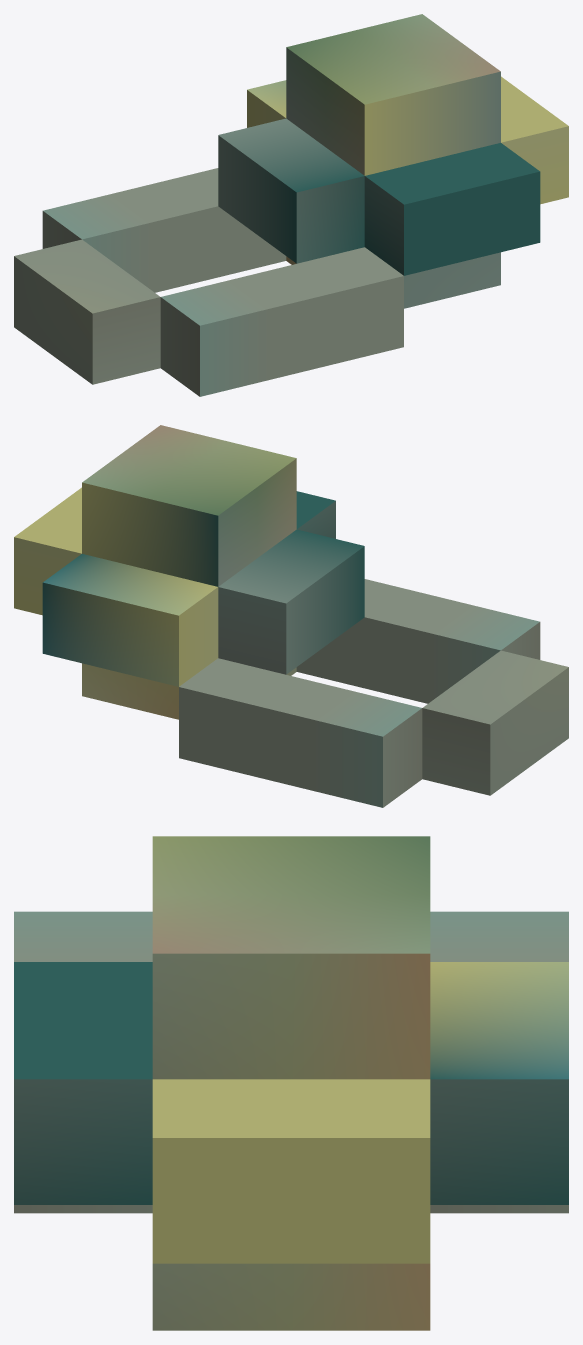
Rendered from BabyRattle_A_00.fbx.
3 renders of one model, top to bottom at view 1: azimuth 30°, elevation 25°; view 2: azimuth 150°, elevation 25°; view 3: azimuth 270°, elevation 25°, orthographic. The views are drawn at different scales.
Parts seen in each view (by area): view 1: BabyRattle_A_00; view 2: BabyRattle_A_00; view 3: BabyRattle_A_00.
Boxes of the visible parts, left/top/right/bottom form: BabyRattle_A_00: left=14, top=14, right=568, bottom=396; BabyRattle_A_00: left=14, top=425, right=568, bottom=807; BabyRattle_A_00: left=14, top=836, right=568, bottom=1330.
Bounding box in the file's own units: 35 × 20 × 15.
Materials: 1 (1 with a texture image).
